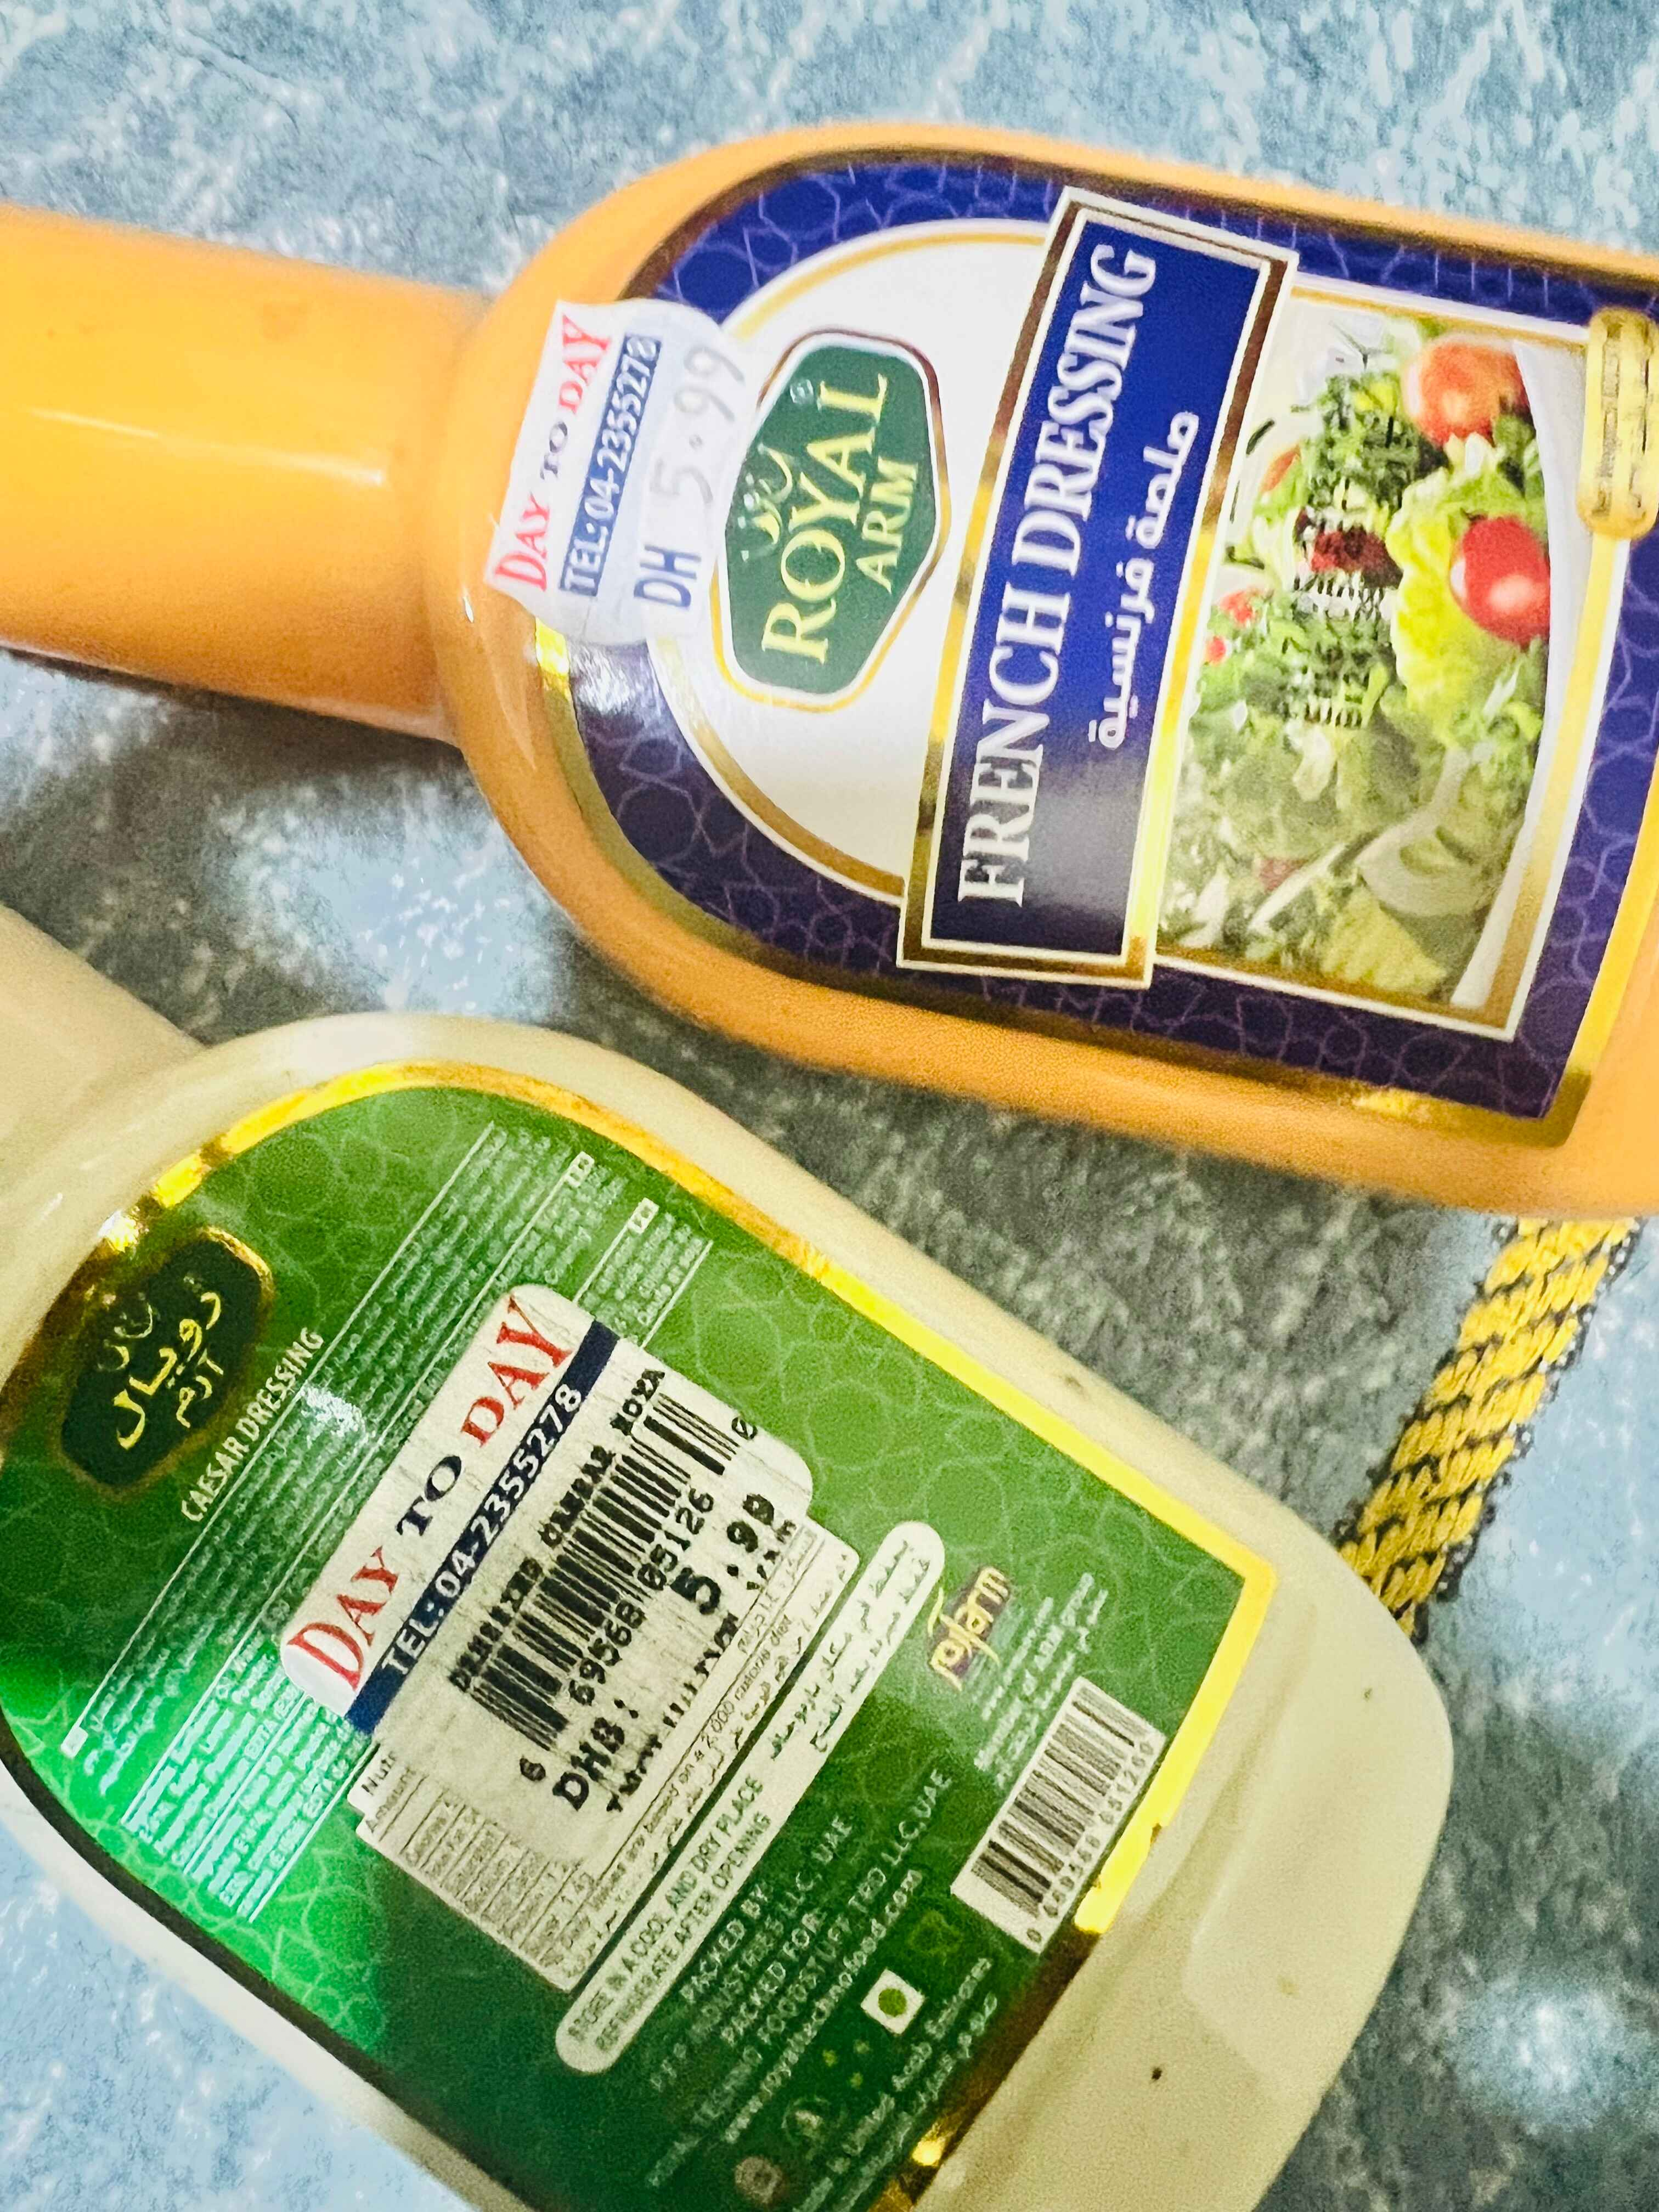PriceTagBig: (254, 1287, 821, 1860)
PriceTagSmall: (469, 296, 763, 636)
